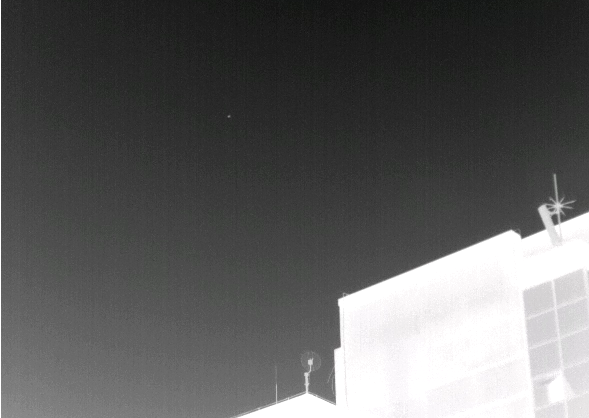dim target: (227, 114, 231, 119)
